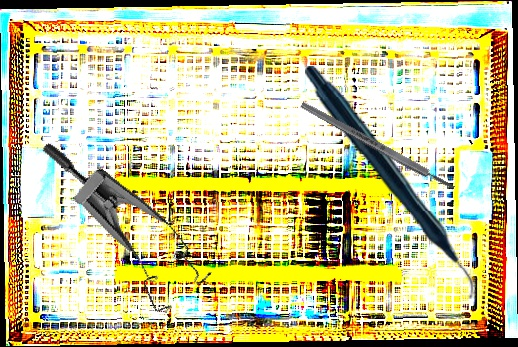Handpiece: (304, 63, 475, 302)
Scalpel Handle: (299, 99, 457, 193)
Speculum: (0, 140, 231, 326)
